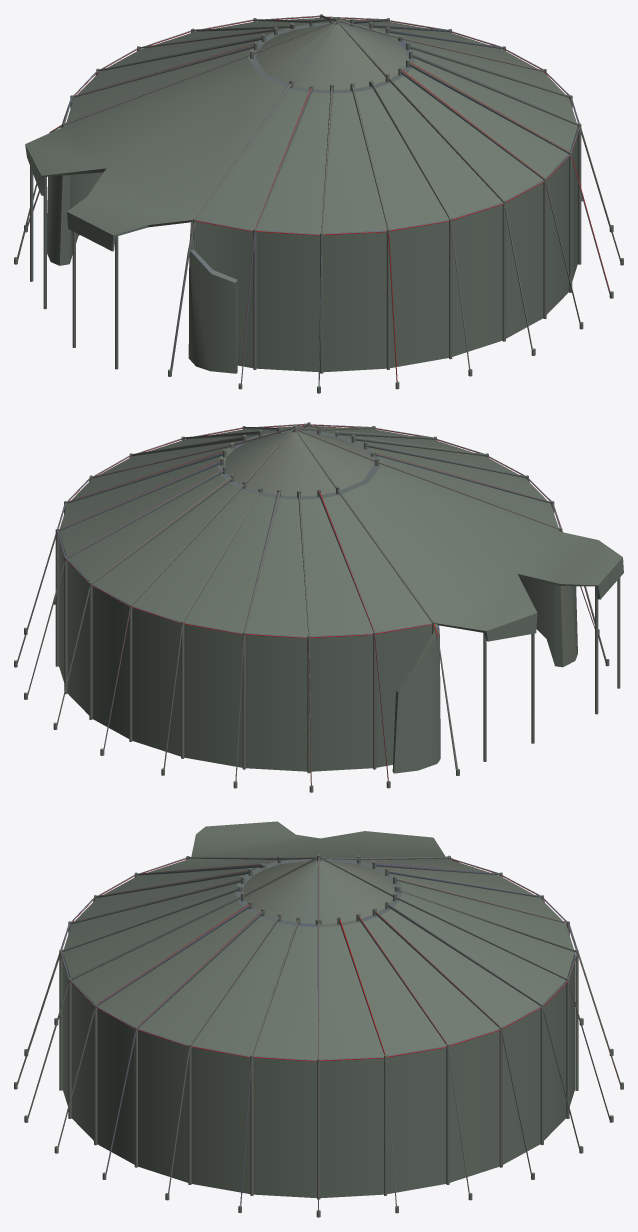
The model's file is low_polynamiot1.fbx.
3 renders of one model, top to bottom at view 1: azimuth 30°, elevation 25°; view 2: azimuth 150°, elevation 25°; view 3: azimuth 270°, elevation 25°, orthographic. The views are drawn at different scales.
Parts seen in each view (by area): view 1: Cylinder, Mesh (4), Mesh, Mesh (2), Mesh (6); view 2: Cylinder, Mesh (4), Mesh, Mesh (2), Mesh (6); view 3: Cylinder, Mesh (4), Mesh, Mesh (2), Mesh (6), Mesh (3).
Part boxes in pixels (x1=…): Cylinder: x1=25, y1=17, x2=577, y2=373; Mesh (4): x1=65, y1=15, x2=578, y2=232; Mesh: x1=30, y1=14, x2=581, y2=373; Mesh (2): x1=17, y1=15, x2=620, y2=386; Mesh (6): x1=15, y1=17, x2=412, y2=376; Cylinder: x1=59, y1=425, x2=623, y2=773; Mesh (4): x1=58, y1=423, x2=559, y2=635; Mesh: x1=55, y1=422, x2=620, y2=773; Mesh (2): x1=17, y1=423, x2=606, y2=785; Mesh (6): x1=220, y1=425, x2=609, y2=769; Cylinder: x1=62, y1=821, x2=574, y2=1198; Mesh (4): x1=62, y1=856, x2=575, y2=1058; Mesh: x1=59, y1=855, x2=578, y2=1199; Mesh (2): x1=17, y1=857, x2=620, y2=1210; Mesh (6): x1=237, y1=854, x2=400, y2=924; Mesh (3): x1=14, y1=1018, x2=623, y2=1217.
Size of the model in its own units: 914 by 394 by 900.
